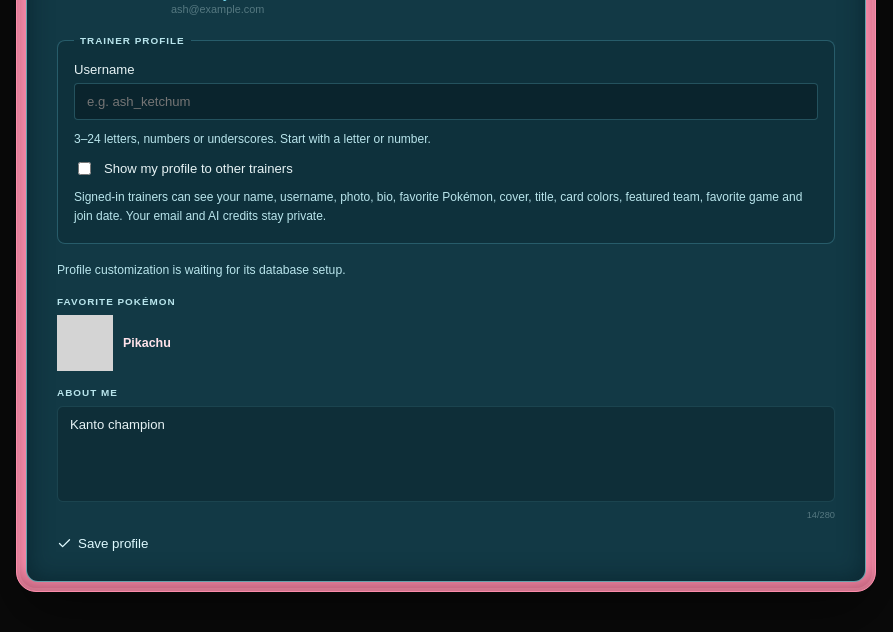
Scenario: ProfilePage › renders the profile and saves bio/favorite edits
The image size is (893, 632).
(page scrolled)
Expected: the text "pikachu" is shown, [123,336,171,350]
Replace the text in the text box with placeholder "Tell other trainers about your playstyle..." with "Fire trainer" at (446, 454), box [57,406,835,502]
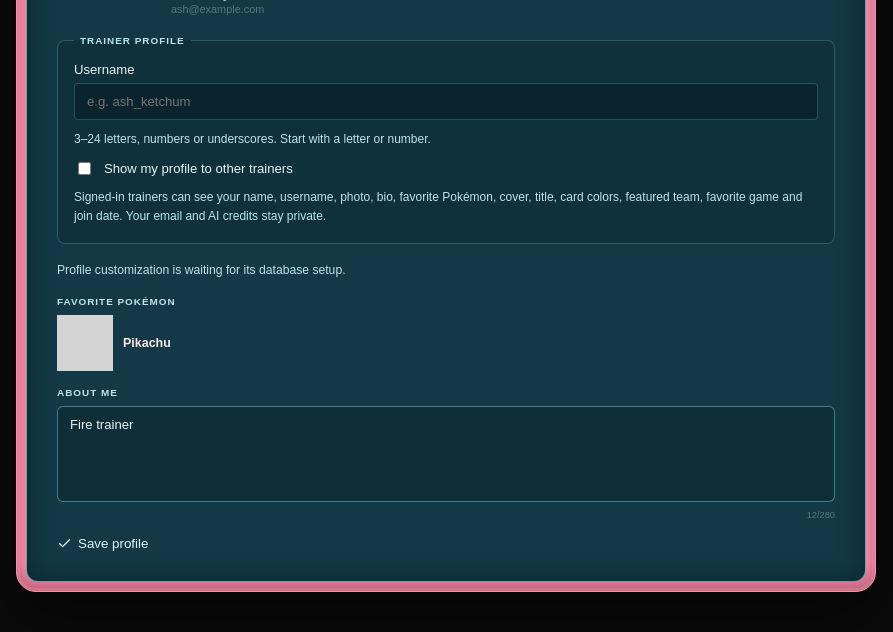
Click the button "Save profile" at (103, 544), box [57,536,148,551]
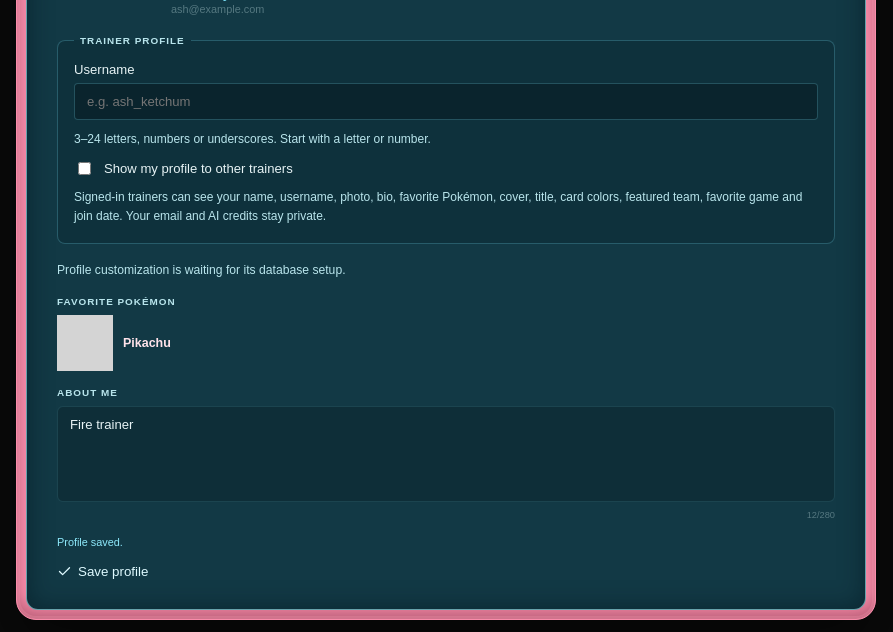
Result: the text "Profile saved." is shown at [57,536,123,548]
